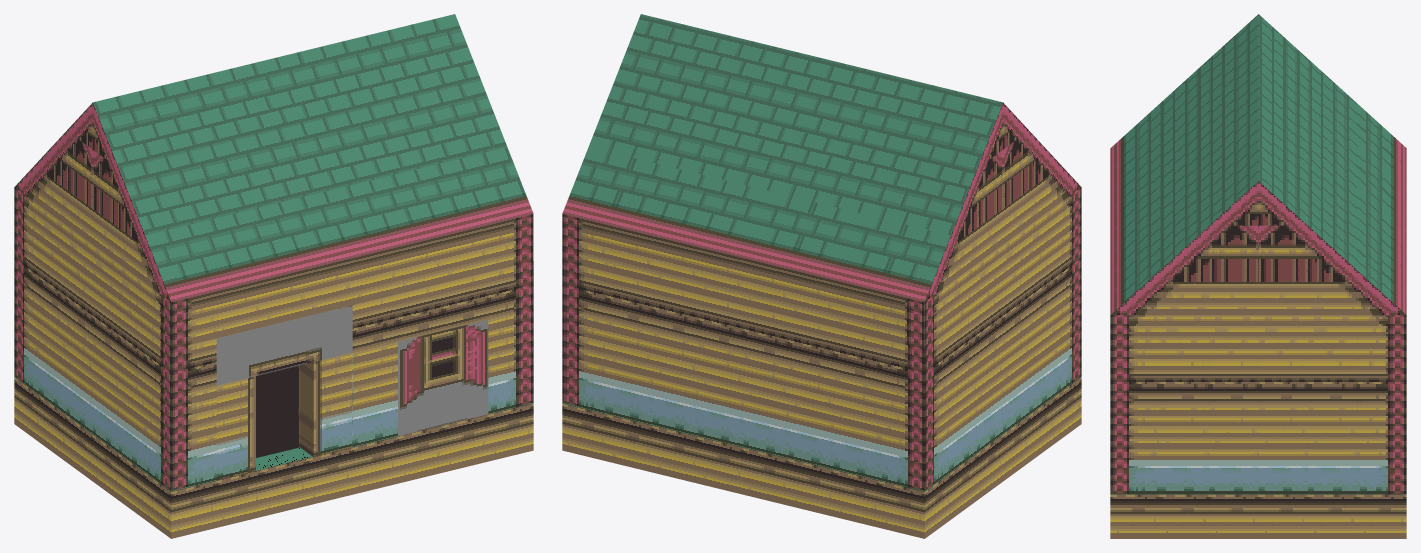
The model's file is house2.glb.
The picture shows the model from 3 angles, left to right: view 1: azimuth 30°, elevation 25°; view 2: azimuth 150°, elevation 25°; view 3: azimuth 270°, elevation 25°; orthographic projection. The views are drawn at different scales.
Parts seen in each view (by area): view 1: Scenario.003; view 2: Scenario.003; view 3: Scenario.003.
Boxes of the visible parts, x1,y1,x2,y2 form: Scenario.003: (14, 14, 533, 538); Scenario.003: (562, 14, 1081, 538); Scenario.003: (1110, 14, 1406, 538).
Bounding box in the file's own units: 8 × 8 × 6.01.
Materials: 1 (1 with a texture image).
